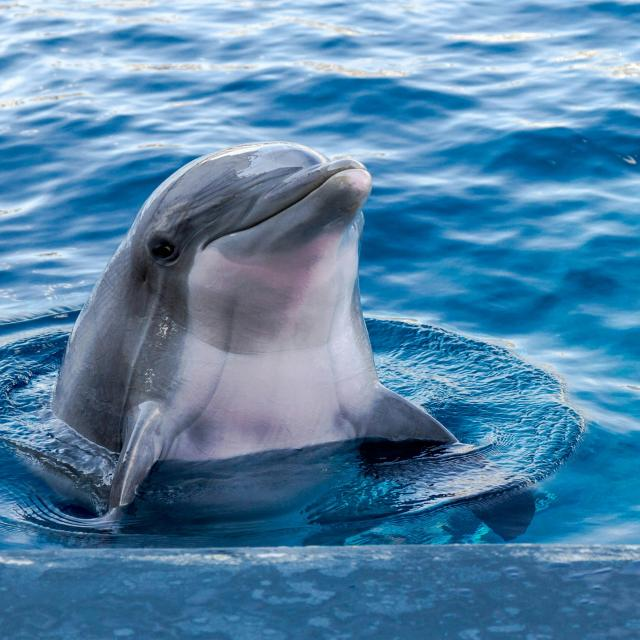penguin: (53, 143, 492, 528), (433, 480, 535, 540)
